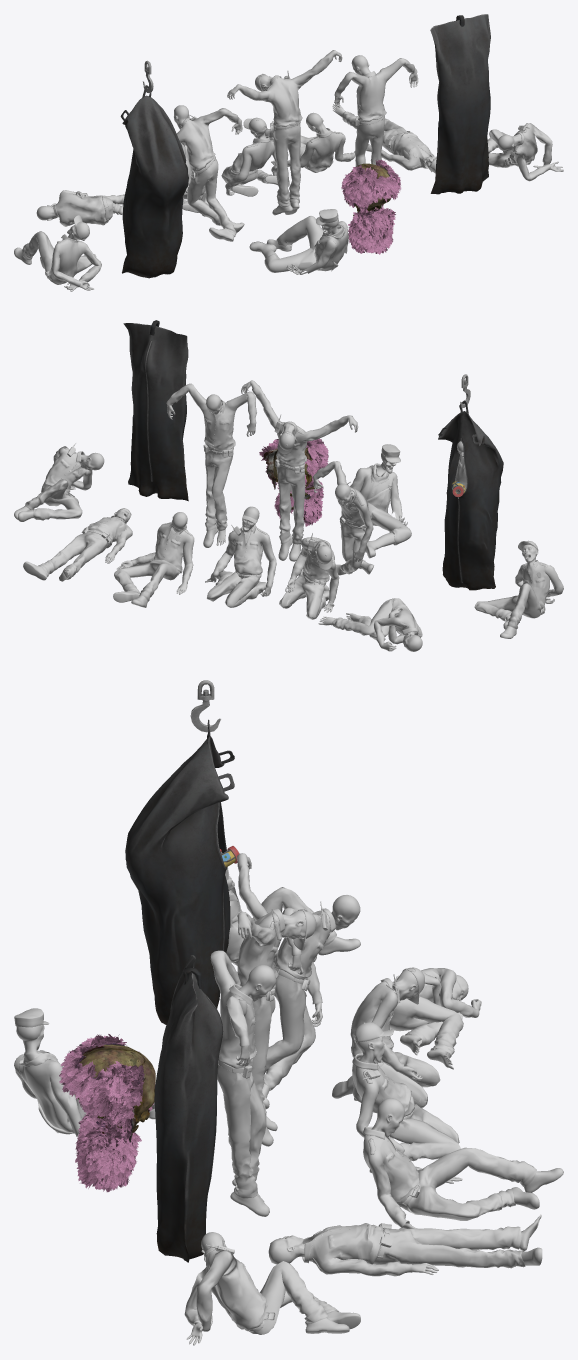
The model's file is DeadBodies.fbx.
The picture shows the model from 3 angles, top to bottom: view 1: azimuth 30°, elevation 25°; view 2: azimuth 150°, elevation 25°; view 3: azimuth 270°, elevation 25°; orthographic projection. The views are drawn at different scales.
Parts seen in each view (by area): view 1: BodyBagGuard, BodyBag, DeadGuard_Hanging, DeadCrateToy, DeadGuard_Sidle1, DeadConductor, DeadGuard_Sidle2, DeadGuard_Twin1, DeadGuard_Twin2, DeadGuard_Pose2, DeadGuard_Pose4, DeadGuard_OpTable (+2 smaller); view 2: BodyBag, BodyBagGuard, DeadGuard_Sidle2, DeadGuard_Hanging, DeadGuard_Pose2, DeadGuard_Pose1, DeadGuard_Twin2, DeadGuard_Twin1, DeadConductor, DeadGuard_Pose3, DeadGuard_OpTable, DeadGuard_Sidle1 (+2 smaller); view 3: BodyBagGuard, BodyBag, DeadGuard_OpTable, DeadCrateToy, DeadGuard_Pose1, DeadGuard_Sidle2, DeadGuard_Twin2, DeadGuard_Sidle1, DeadGuard_Hanging, DeadGuard_Pose2, DeadGuard_Pose4, DeadGuard_Pose3 (+2 smaller).
Boxes of the visible parts, bbox=[...] form: BodyBagGuard: bbox=[120, 60, 188, 278]; BodyBag: bbox=[430, 14, 490, 194]; DeadGuard_Hanging: bbox=[227, 50, 342, 215]; DeadCrateToy: bbox=[341, 159, 401, 254]; DeadGuard_Sidle1: bbox=[174, 105, 244, 241]; DeadConductor: bbox=[249, 209, 348, 274]; DeadGuard_Sidle2: bbox=[334, 55, 418, 166]; DeadGuard_Twin1: bbox=[14, 215, 101, 291]; DeadGuard_Twin2: bbox=[487, 123, 563, 181]; DeadGuard_Pose2: bbox=[221, 117, 289, 196]; DeadGuard_Pose4: bbox=[36, 190, 124, 226]; DeadGuard_OpTable: bbox=[332, 102, 436, 173]; BodyBag: bbox=[123, 320, 188, 501]; BodyBagGuard: bbox=[438, 374, 503, 590]; DeadGuard_Sidle2: bbox=[166, 383, 256, 547]; DeadGuard_Hanging: bbox=[241, 380, 358, 561]; DeadGuard_Pose2: bbox=[205, 506, 276, 607]; DeadGuard_Pose1: bbox=[113, 512, 194, 607]; DeadGuard_Twin2: bbox=[14, 443, 104, 521]; DeadGuard_Twin1: bbox=[474, 540, 563, 638]; DeadConductor: bbox=[341, 444, 411, 558]; DeadGuard_Pose3: bbox=[279, 533, 339, 619]; DeadGuard_OpTable: bbox=[23, 508, 132, 581]; DeadGuard_Sidle1: bbox=[313, 461, 373, 575]; BodyBagGuard: bbox=[125, 680, 239, 1024]; BodyBag: bbox=[154, 955, 223, 1262]; DeadGuard_OpTable: bbox=[268, 1214, 542, 1276]; DeadCrateToy: bbox=[59, 1034, 155, 1192]; DeadGuard_Pose1: bbox=[363, 1098, 563, 1228]; DeadGuard_Sidle2: bbox=[210, 950, 276, 1216]; DeadGuard_Twin2: bbox=[184, 1232, 360, 1345]; DeadGuard_Sidle1: bbox=[262, 895, 360, 1109]; DeadGuard_Hanging: bbox=[237, 853, 316, 1146]; DeadGuard_Pose2: bbox=[352, 1022, 460, 1172]; DeadGuard_Pose4: bbox=[389, 968, 481, 1069]; DeadGuard_Pose3: bbox=[332, 967, 440, 1108].
Size of the model in its own units: 3317 by 1344 by 1907.
